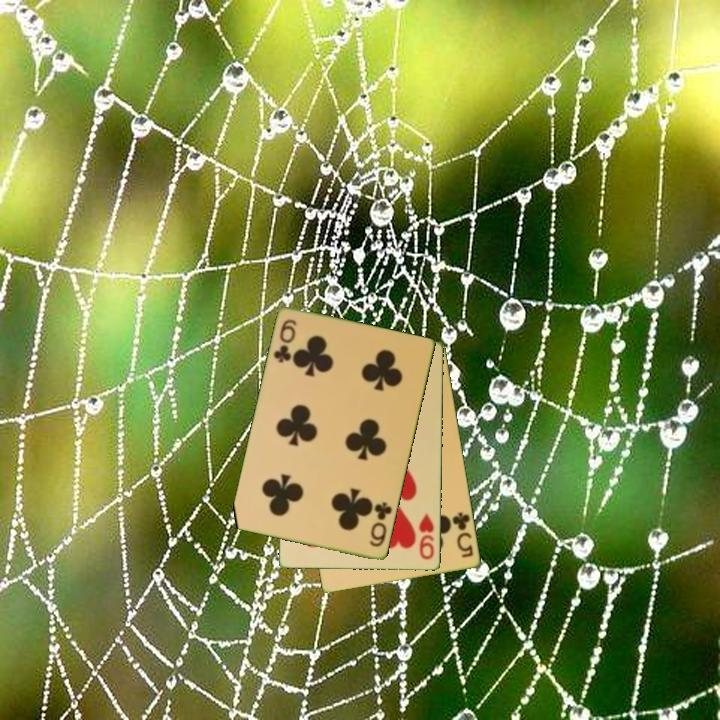5c: (449, 508, 476, 561)
6c: (270, 316, 300, 366), (366, 499, 395, 550)
9h: (416, 511, 437, 562)
